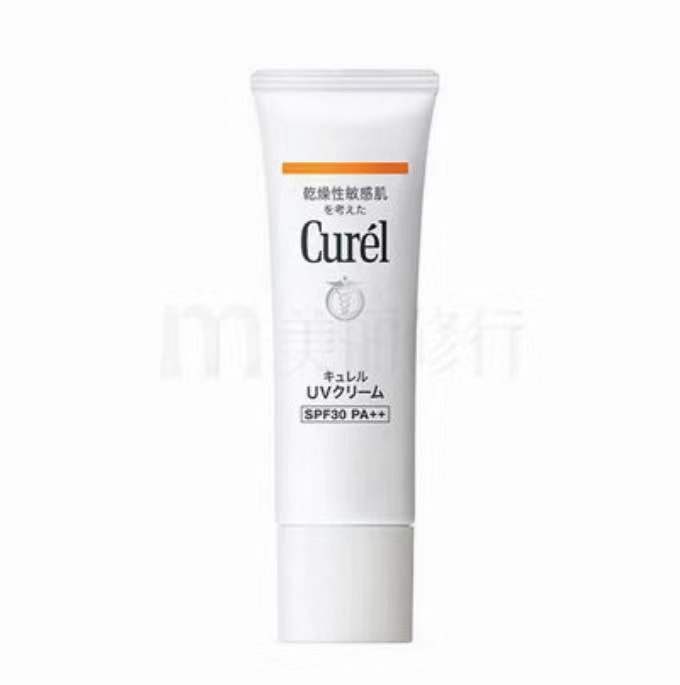cosmetic: (252, 71, 436, 640)
